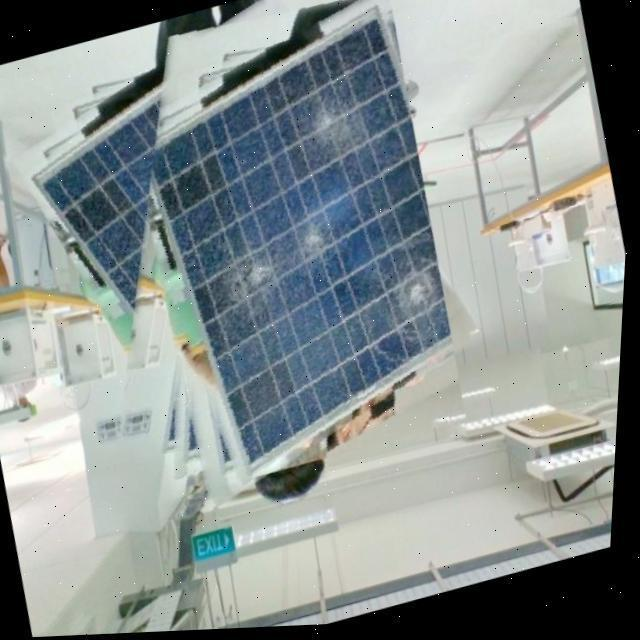Anomaly Solar Panel: (144, 8, 471, 480)
Structural Damage: (203, 204, 358, 341), (285, 79, 400, 186), (359, 254, 464, 356)
